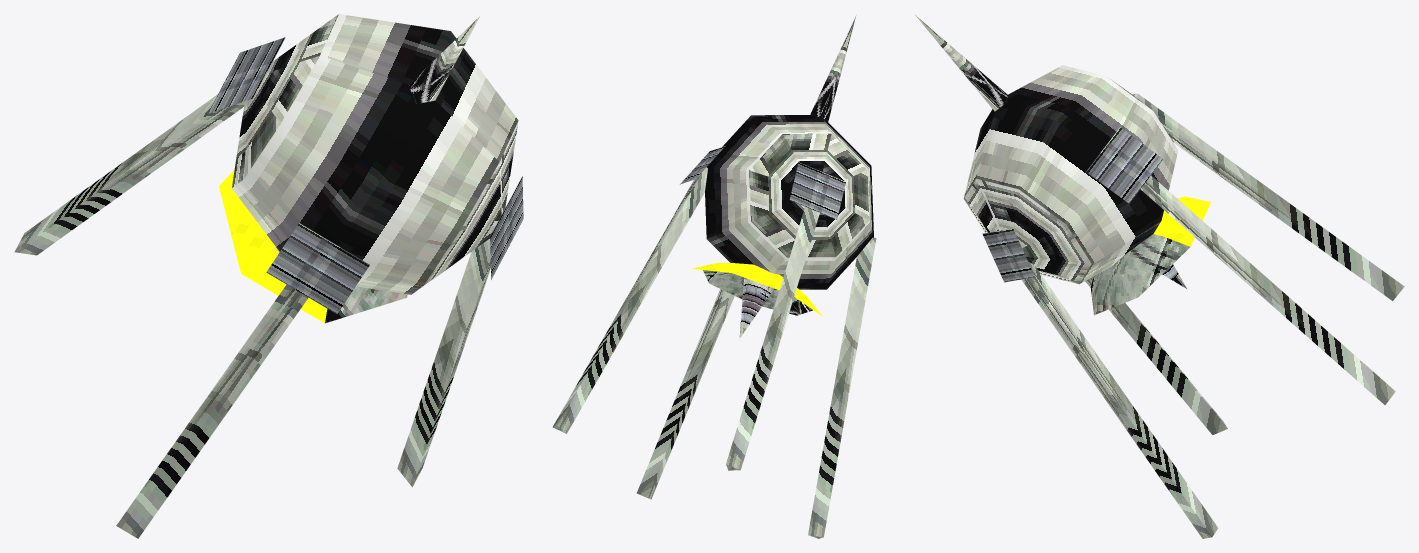
The model's file is tbeacon_cmp.gltf.
The picture shows the model from 3 angles, left to right: view 1: azimuth 30°, elevation 25°; view 2: azimuth 150°, elevation 25°; view 3: azimuth 270°, elevation 25°; orthographic projection. The views are drawn at different scales.
Parts seen in each view (by area): view 1: shell; view 2: shell; view 3: shell.
Part boxes in pixels (x1=…): shell: x1=14, y1=14, x2=523, y2=538; shell: x1=553, y1=15, x2=876, y2=538; shell: x1=915, y1=15, x2=1404, y2=538.
Bounding box in the file's own units: 5.52 × 10.84 × 10.05.
5 materials, 4 textured.
